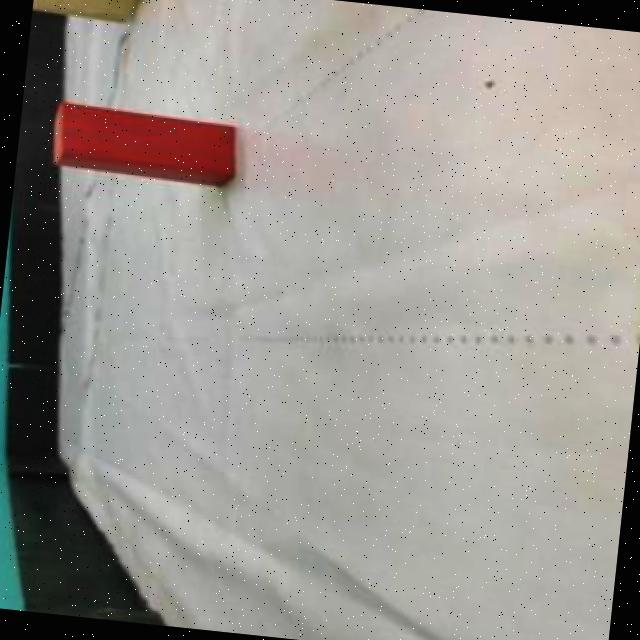redbox: (46, 100, 239, 189)
